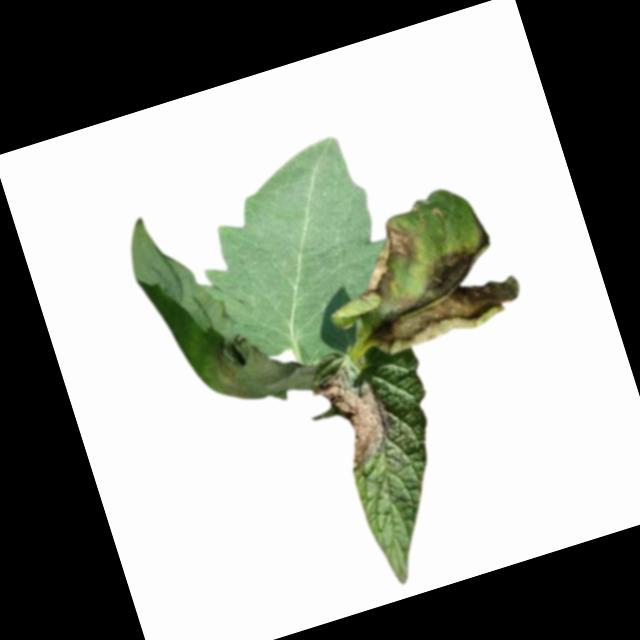Late_blight: (346, 221, 528, 360), (199, 316, 318, 417), (307, 362, 401, 476), (346, 214, 432, 309)
healthy: (183, 129, 415, 384)
